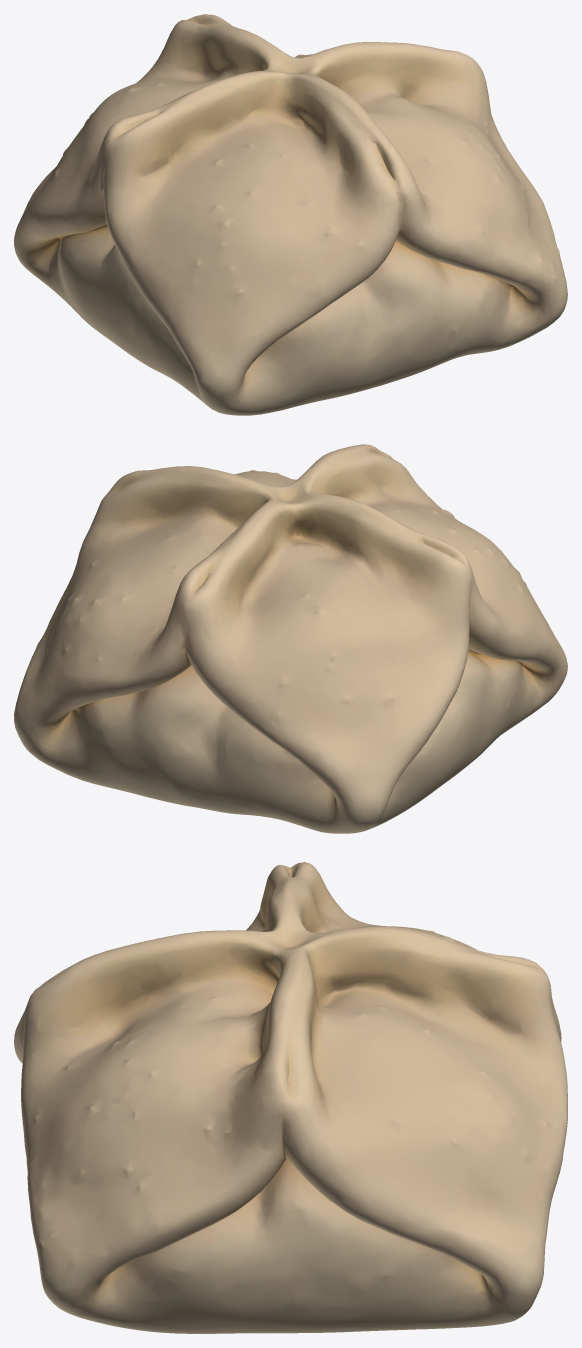
Rendered from manti.glb.
The picture shows the model from 3 angles, top to bottom: view 1: azimuth 30°, elevation 25°; view 2: azimuth 150°, elevation 25°; view 3: azimuth 270°, elevation 25°; orthographic projection. The views are drawn at different scales.
Visible parts, largest first — view 1: tripo_node_67254cd9-9aad-4c98-b86d-d5fdb4f24617; view 2: tripo_node_67254cd9-9aad-4c98-b86d-d5fdb4f24617; view 3: tripo_node_67254cd9-9aad-4c98-b86d-d5fdb4f24617.
Part boxes in pixels (x1=…): tripo_node_67254cd9-9aad-4c98-b86d-d5fdb4f24617: x1=14, y1=14, x2=567, y2=415; tripo_node_67254cd9-9aad-4c98-b86d-d5fdb4f24617: x1=14, y1=444, x2=567, y2=833; tripo_node_67254cd9-9aad-4c98-b86d-d5fdb4f24617: x1=14, y1=862, x2=567, y2=1333.
Size of the model in its own units: 1 by 0.6379 by 0.9995.
1 material, 1 textured.
